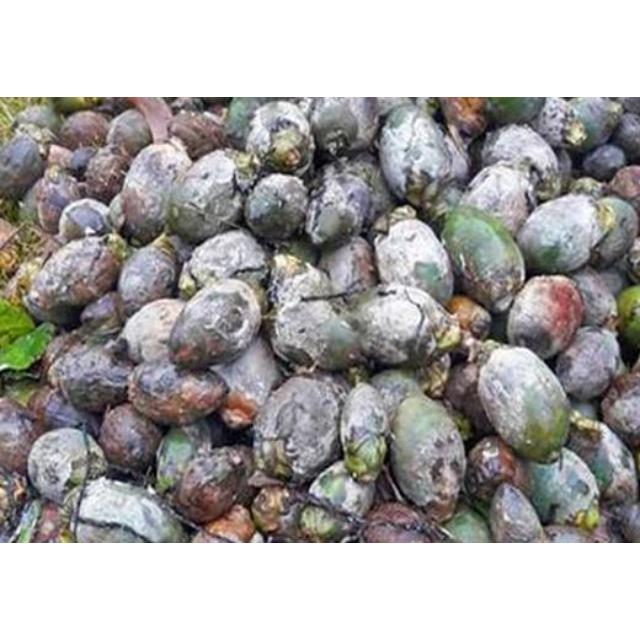damaged: (476, 345, 572, 463), (252, 372, 348, 483), (388, 392, 468, 514), (438, 205, 528, 312), (26, 234, 126, 322), (349, 285, 453, 369), (114, 140, 190, 244), (164, 150, 246, 246), (377, 104, 453, 204), (270, 296, 366, 374), (372, 217, 456, 305), (72, 479, 186, 543), (128, 357, 228, 427), (50, 334, 136, 414), (505, 276, 583, 360), (170, 446, 254, 524), (209, 338, 281, 428), (25, 428, 107, 507), (475, 124, 563, 196), (182, 229, 270, 299), (178, 289, 260, 363), (302, 166, 370, 250), (115, 235, 183, 318), (459, 163, 537, 234), (527, 450, 599, 526), (570, 419, 636, 499), (244, 100, 314, 174), (464, 437, 532, 507), (555, 326, 621, 398), (99, 404, 165, 476), (152, 422, 214, 498), (119, 298, 187, 367), (243, 172, 310, 242), (307, 460, 378, 522), (447, 359, 501, 437), (317, 235, 379, 301), (308, 98, 377, 156), (587, 197, 639, 271), (336, 156, 390, 224), (486, 481, 546, 541), (556, 97, 618, 153), (270, 261, 336, 313), (30, 171, 80, 235), (254, 484, 310, 540), (566, 270, 620, 328), (0, 132, 46, 200), (369, 367, 431, 417), (1, 401, 42, 474), (167, 110, 229, 158), (296, 501, 360, 544), (602, 374, 640, 446), (83, 144, 131, 200), (41, 388, 95, 436), (57, 198, 113, 242), (103, 109, 153, 158), (222, 98, 268, 150), (56, 110, 112, 152), (604, 164, 640, 224), (270, 235, 318, 279), (252, 435, 294, 485), (480, 98, 548, 128), (437, 98, 487, 138), (10, 105, 60, 142), (42, 329, 74, 376), (232, 151, 262, 195), (24, 386, 56, 424), (612, 500, 640, 542), (567, 176, 605, 198)
